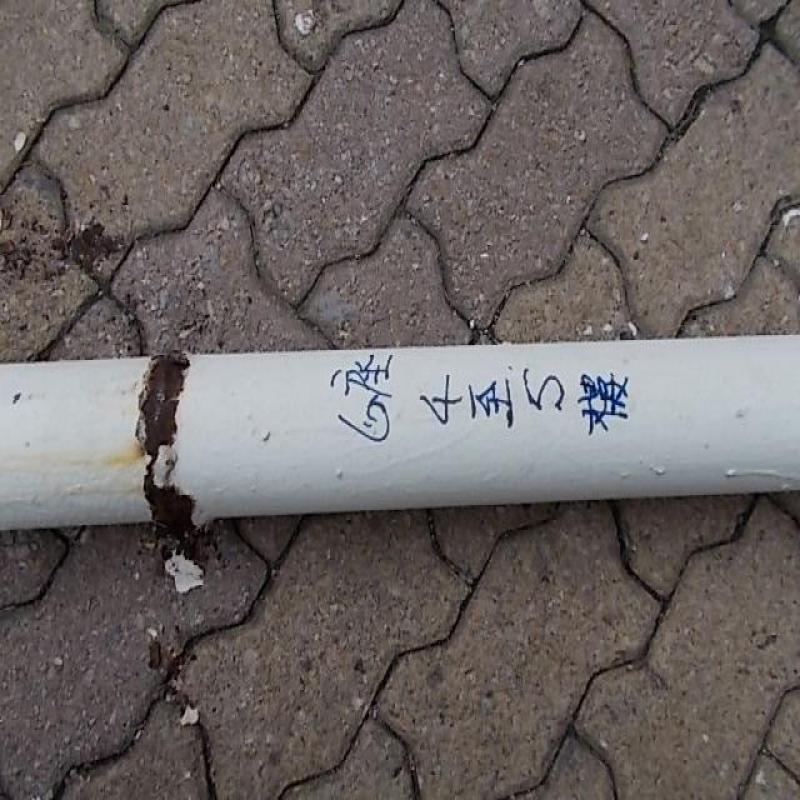corrosion: (142, 358, 180, 520)
